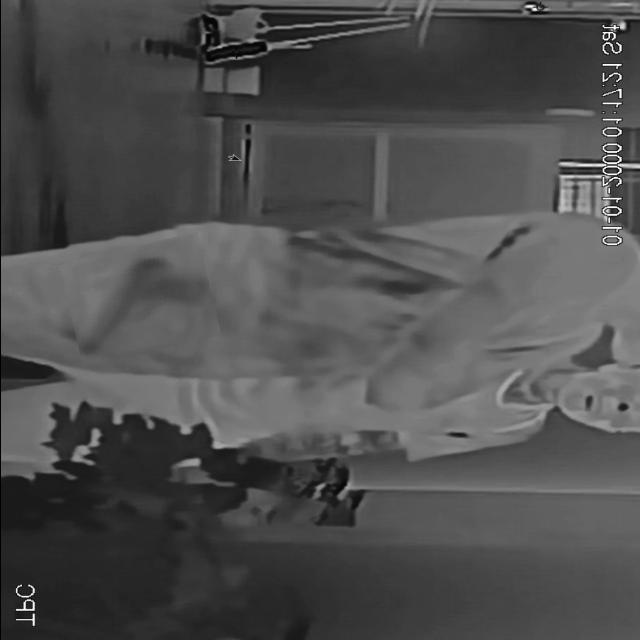Weapon: (62, 239, 214, 359)
